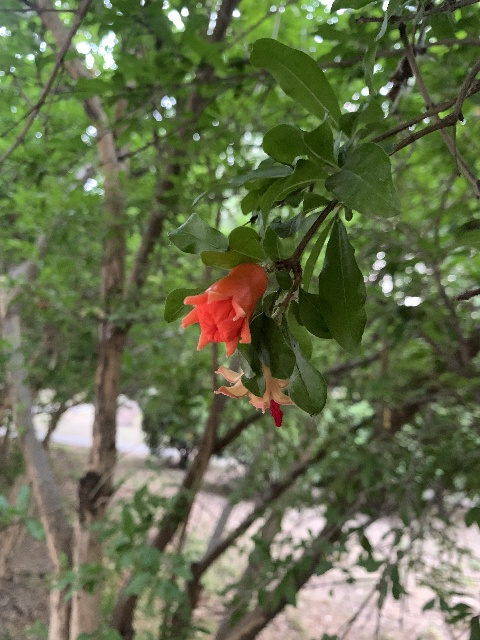early-fruit: (214, 364, 295, 413)
flower: (181, 262, 267, 356)
